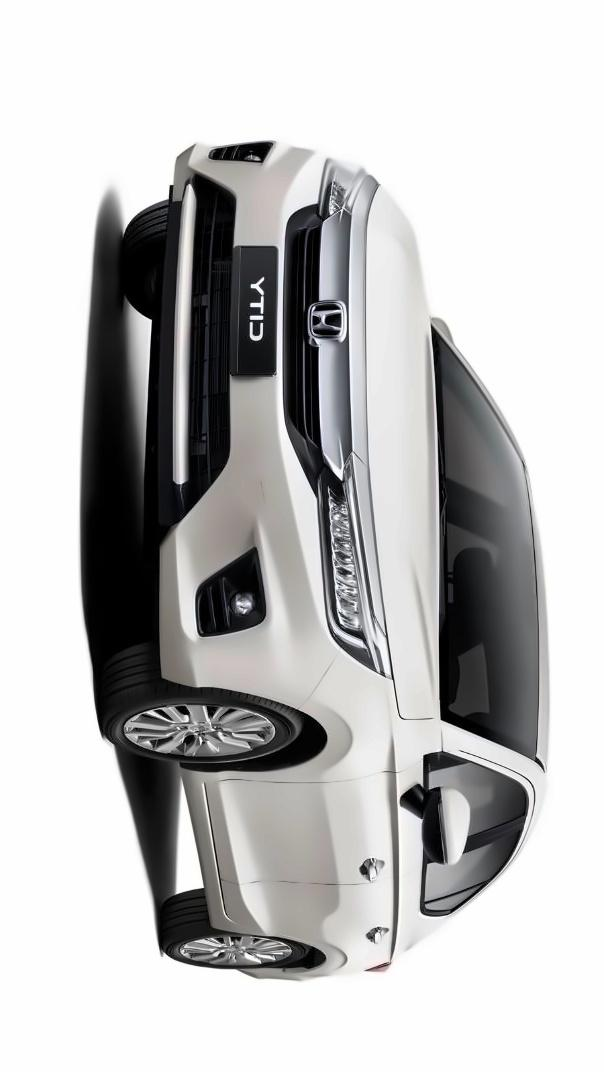Fender - -F-L-: (289, 680, 389, 785)
Front bumper: (145, 132, 343, 715)
Headlight - -L-: (315, 452, 392, 686)
Headlight - -R-: (355, 157, 445, 738), (317, 154, 371, 225)
Passenger-s door - -F-L-: (182, 752, 543, 896), (195, 865, 553, 952)
Side bumper - -L-: (165, 765, 257, 942)
Side mirror - -L-: (419, 787, 478, 869)
